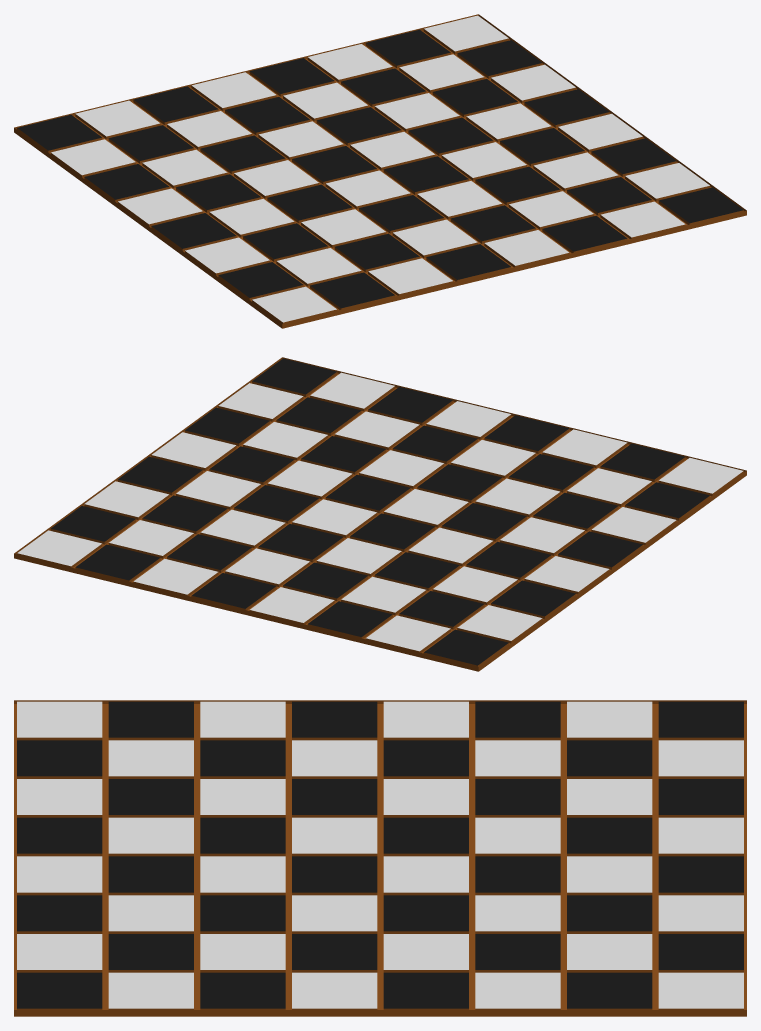
The model's file is chess board.glb.
The picture shows the model from 3 angles, top to bottom: view 1: azimuth 30°, elevation 25°; view 2: azimuth 150°, elevation 25°; view 3: azimuth 270°, elevation 25°; orthographic projection. The views are drawn at different scales.
Visible parts, largest first — view 1: black, white, board; view 2: white, black, board; view 3: black, white, board.
Boxes of the visible parts, bbox=[...] form: black: bbox=[17, 29, 743, 308]; white: bbox=[51, 15, 709, 322]; board: bbox=[14, 14, 746, 328]; white: bbox=[17, 372, 743, 651]; black: bbox=[51, 358, 709, 665]; board: bbox=[14, 357, 746, 671]; black: bbox=[17, 701, 743, 1008]; white: bbox=[17, 701, 743, 1008]; board: bbox=[14, 700, 746, 1016].
Size of the model in its own units: 20 by 0.2 by 20.
